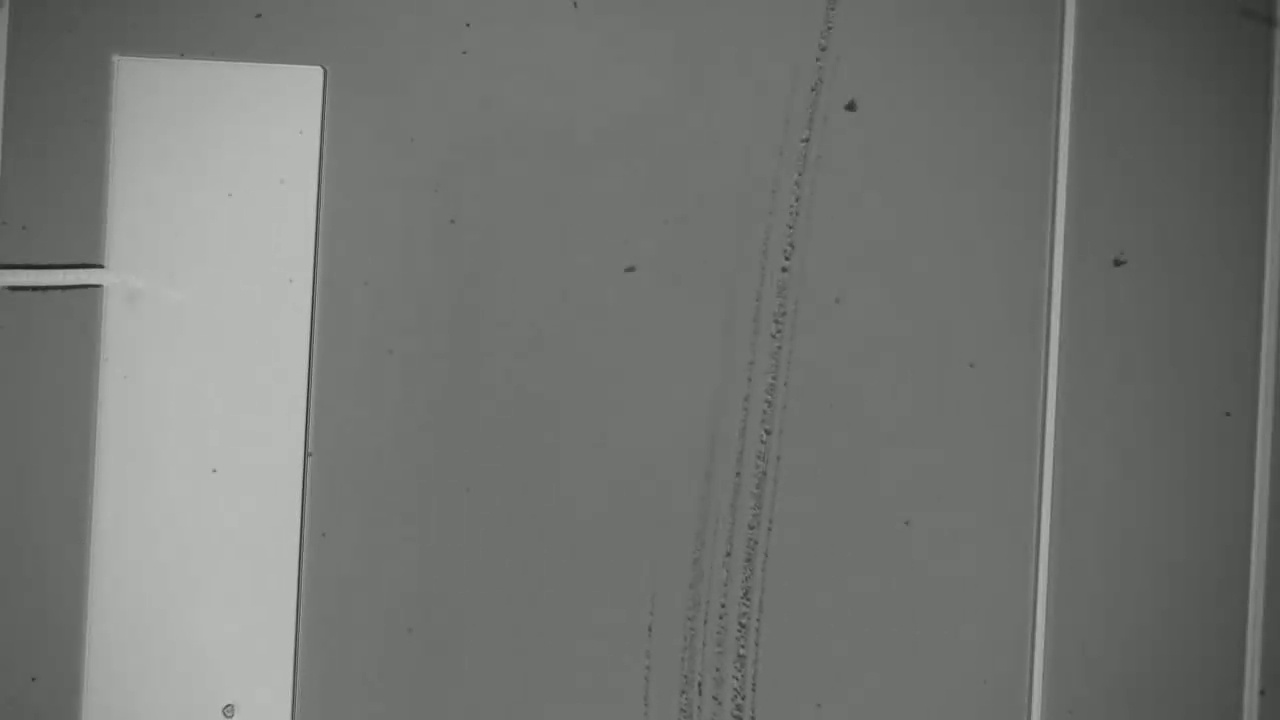Short_circuit: (0, 236, 129, 325)
scratch: (625, 27, 835, 719)
